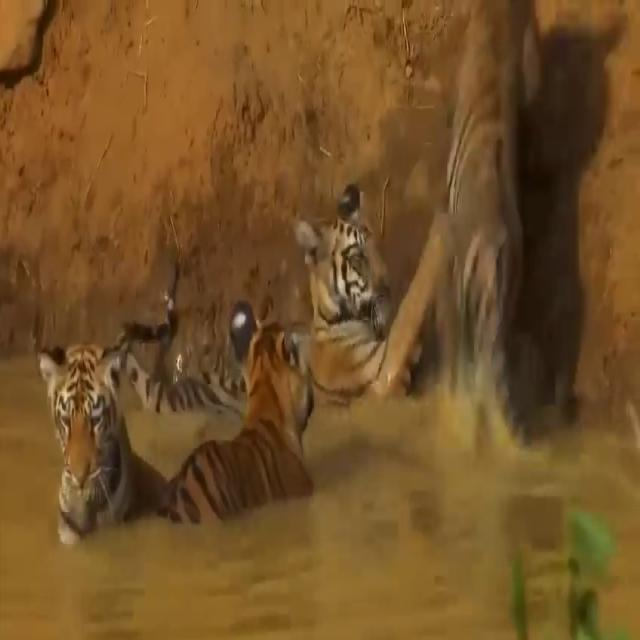tiger: (166, 296, 316, 524), (31, 330, 168, 544), (290, 182, 402, 406)
